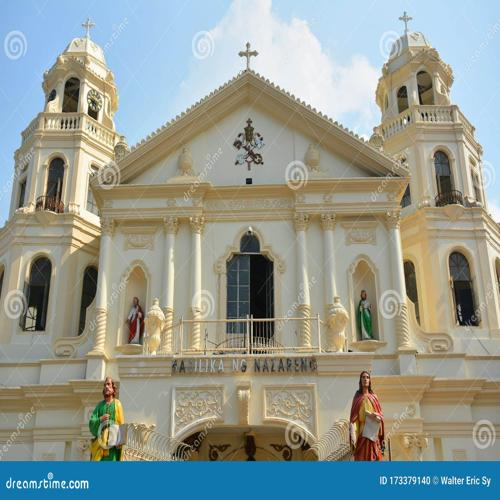Quiapo Church: (4, 8, 498, 459)
